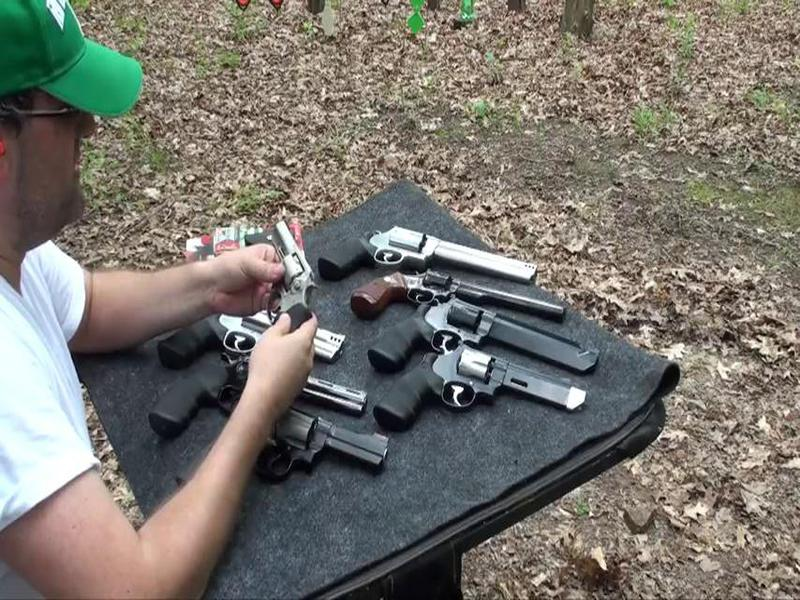Revolver: (366, 341, 572, 445)
